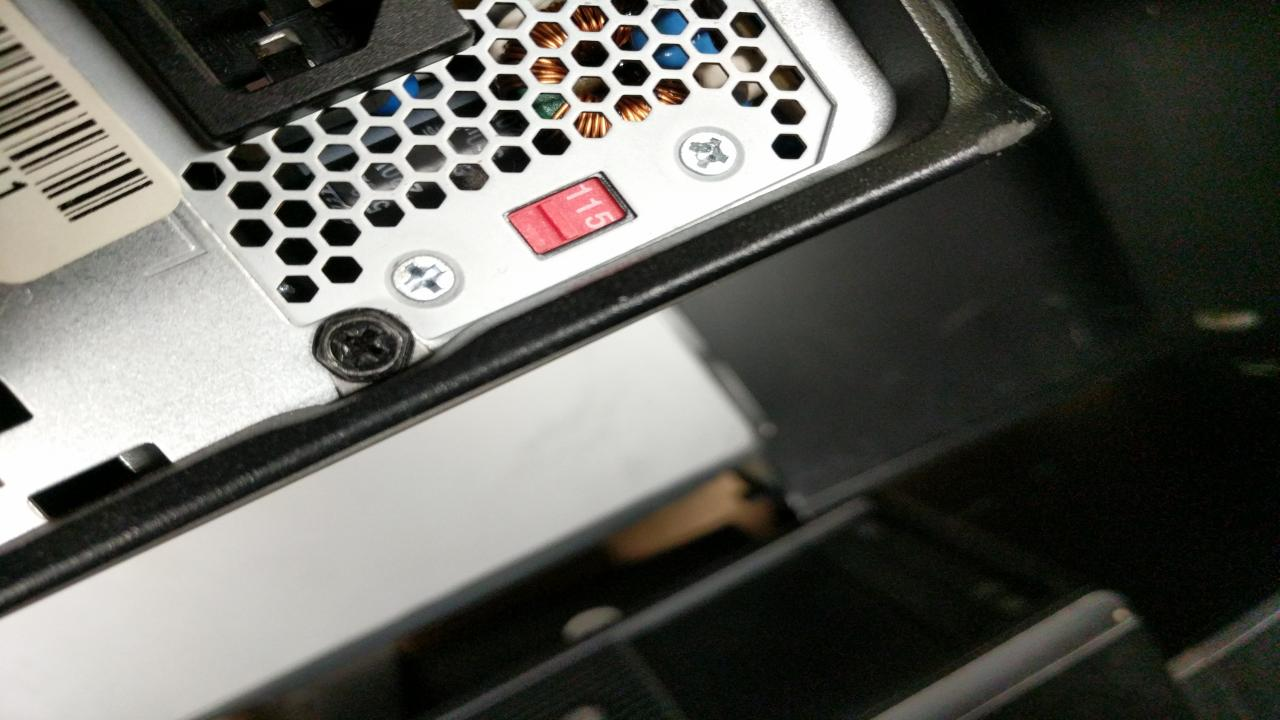CRS: (312, 312, 411, 379), (676, 127, 745, 179), (391, 254, 454, 300)
